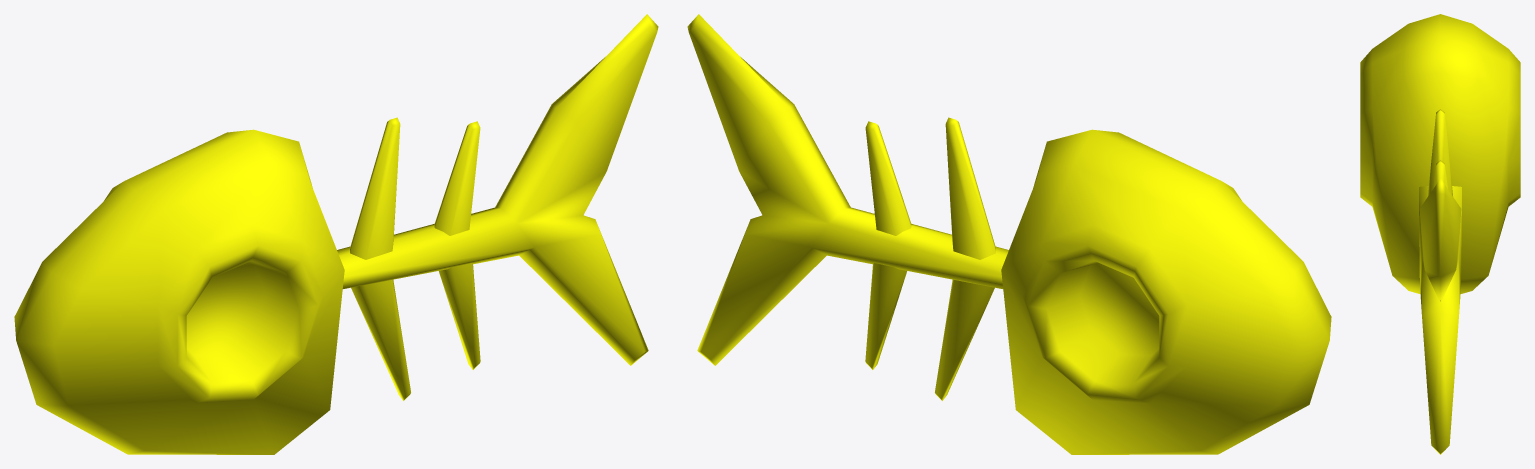
Rendered from Fishbone.glb.
The picture shows the model from 3 angles, left to right: view 1: azimuth 30°, elevation 25°; view 2: azimuth 150°, elevation 25°; view 3: azimuth 270°, elevation 25°; orthographic projection. The views are drawn at different scales.
Parts seen in each view (by area): view 1: Fishbone2; view 2: Fishbone2; view 3: Fishbone2.
Boxes of the visible parts, x1=… form: Fishbone2: x1=14, y1=14, x2=658, y2=454; Fishbone2: x1=687, y1=14, x2=1331, y2=454; Fishbone2: x1=1360, y1=14, x2=1520, y2=454.
Size of the model in its own units: 0.4346 by 0.2249 by 0.1149.
1 material, 1 textured.
